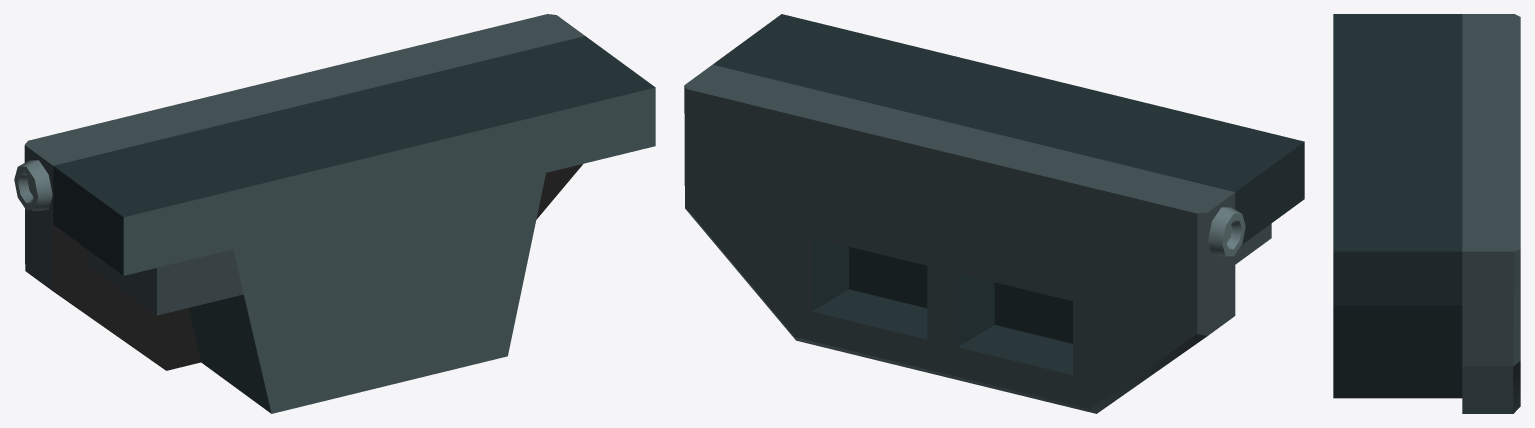
The model's file is SM_Passerelle_LR.fbx.
The picture shows the model from 3 angles, left to right: view 1: azimuth 30°, elevation 25°; view 2: azimuth 150°, elevation 25°; view 3: azimuth 270°, elevation 25°; orthographic projection. The views are drawn at different scales.
Visible parts, largest first — view 1: SM_Passerelle_LR; view 2: SM_Passerelle_LR; view 3: SM_Passerelle_LR.
Part boxes in pixels (left/top/right/bottom): SM_Passerelle_LR: left=14, top=14, right=655, bottom=413; SM_Passerelle_LR: left=684, top=14, right=1304, bottom=413; SM_Passerelle_LR: left=1333, top=14, right=1520, bottom=413.
Size of the model in its own units: 307 by 125 by 100.
1 material, 1 textured.
